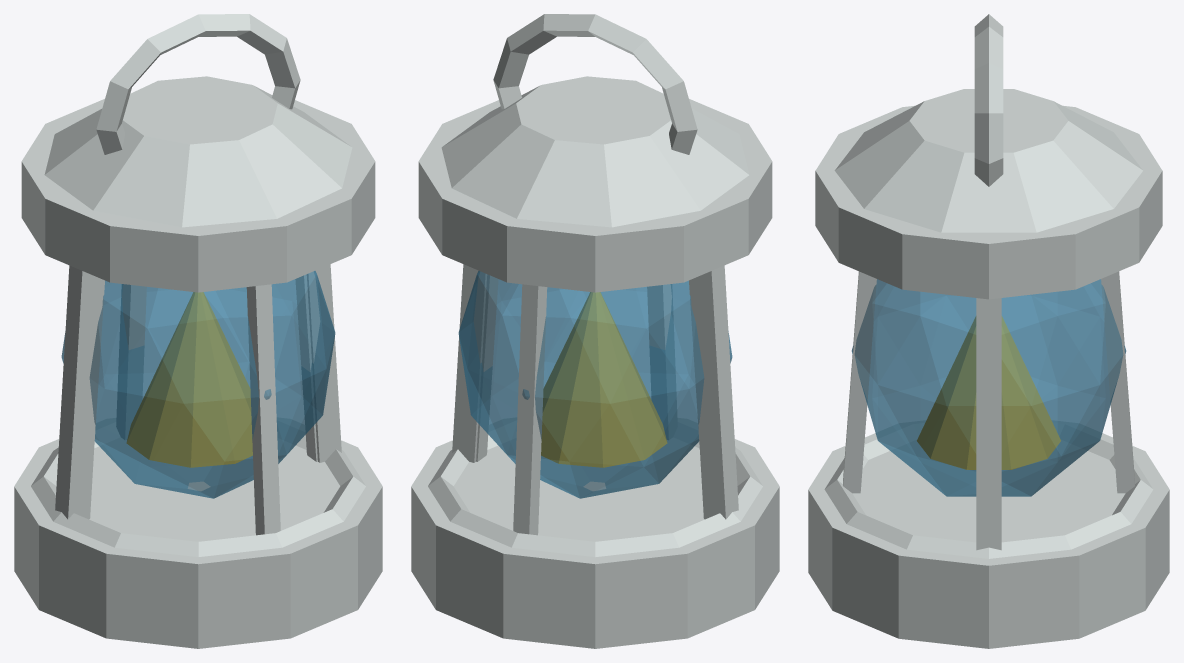
The model's file is reliquia_lampiao.glb.
The picture shows the model from 3 angles, left to right: view 1: azimuth 30°, elevation 25°; view 2: azimuth 150°, elevation 25°; view 3: azimuth 270°, elevation 25°; orthographic projection.
Visible parts, largest first — view 1: reliquia_lampiao; view 2: reliquia_lampiao; view 3: reliquia_lampiao.
Part boxes in pixels (x1,y1,x2,y2): reliquia_lampiao: (14,14,382,648); reliquia_lampiao: (411,14,779,648); reliquia_lampiao: (808,14,1169,648).
Bounding box in the file's own units: 1.5 × 2.5 × 1.5.
